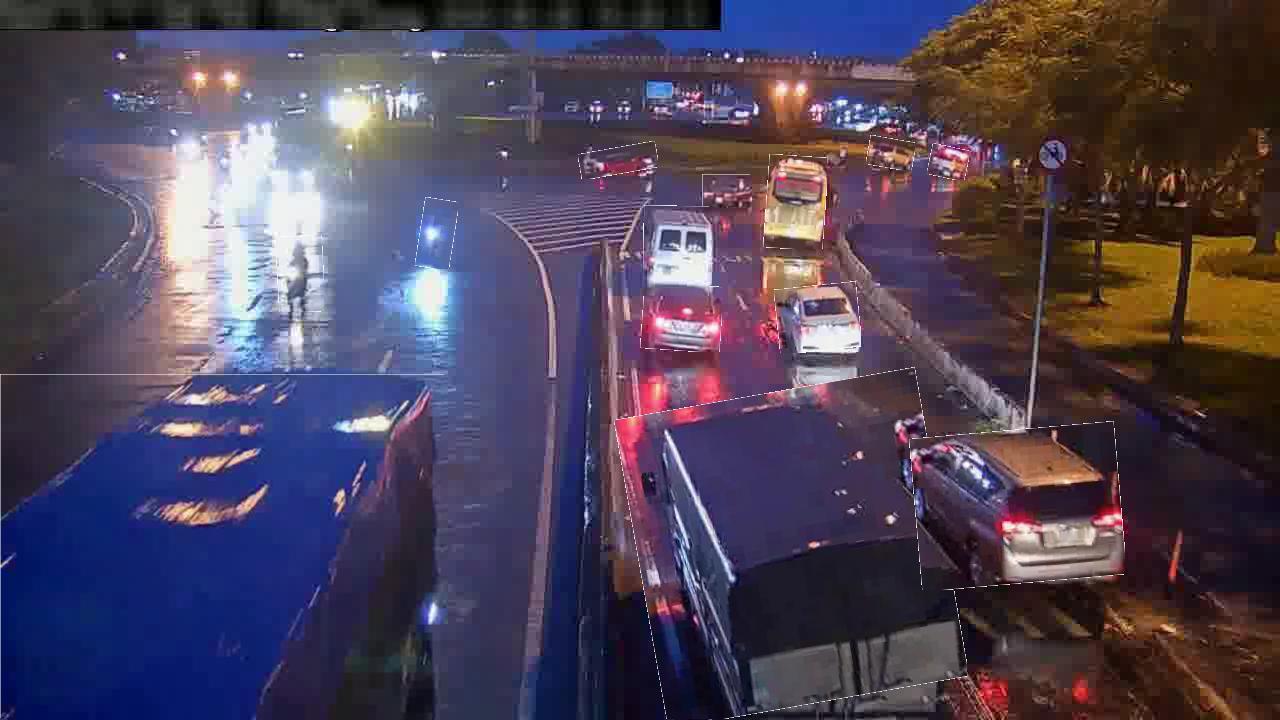14: (644, 206, 710, 297), (765, 155, 827, 250)
8: (0, 374, 445, 719), (627, 379, 956, 716)
container: (912, 426, 1123, 587), (776, 283, 860, 352), (641, 284, 722, 352), (579, 145, 659, 177), (702, 174, 751, 207), (867, 137, 915, 170), (929, 145, 969, 180)
motorbike: (277, 236, 325, 312), (418, 198, 456, 269)
